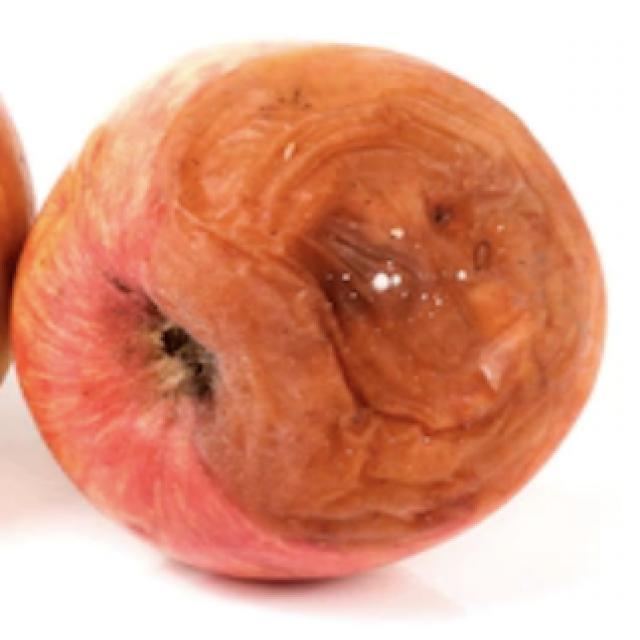Rotten: (4, 48, 618, 582)
